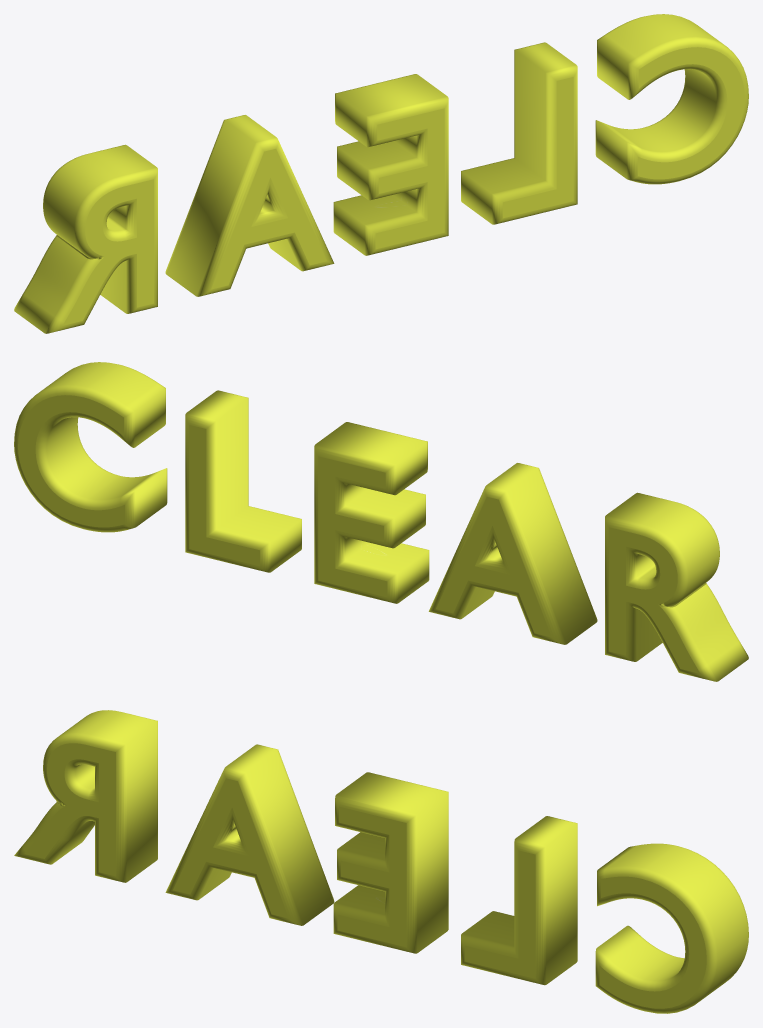
Rendered from ClearText.obj.
3 renders of one model, top to bottom at view 1: azimuth 30°, elevation 25°; view 2: azimuth 150°, elevation 25°; view 3: azimuth 330°, elevation 25°, orthographic.
Visible parts, largest first — view 1: テキスト; view 2: テキスト; view 3: テキスト.
Part boxes in pixels (bbox=[...]): テキスト: bbox=[14, 14, 748, 333]; テキスト: bbox=[14, 362, 748, 681]; テキスト: bbox=[14, 710, 748, 1013].
Size of the model in its own units: 4.04 by 0.78 by 0.38.
